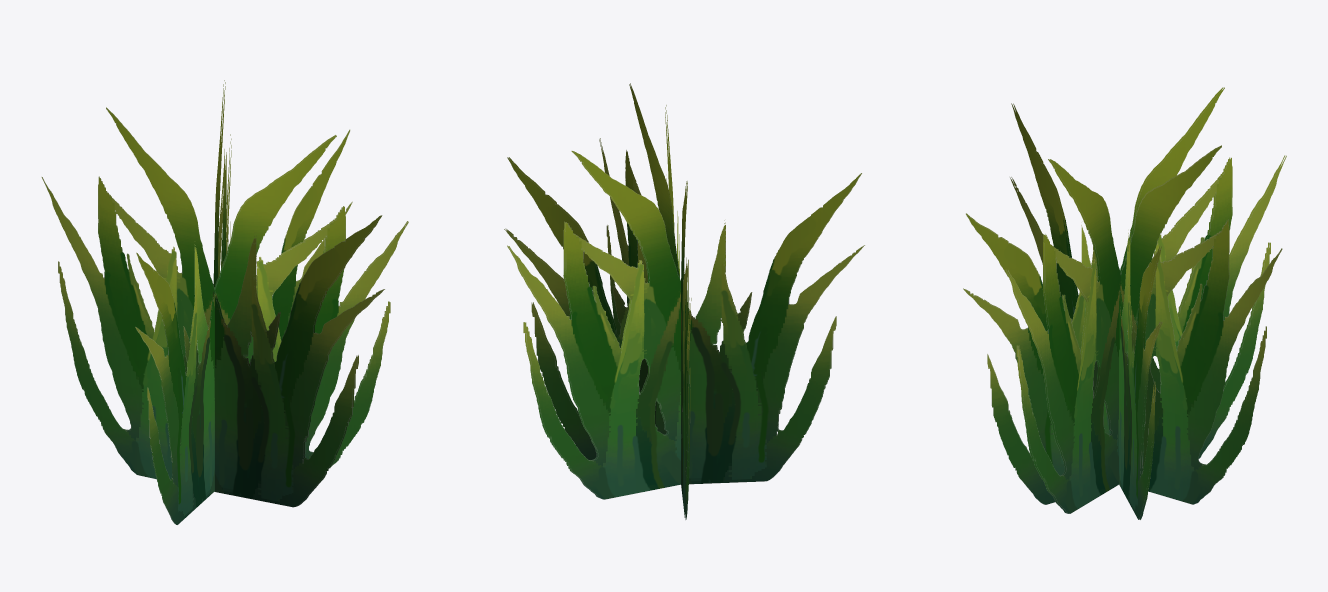
Rendered from Environment_Grass_Tuft_003.fbx.
3 renders of one model, left to right at view 1: azimuth 30°, elevation 25°; view 2: azimuth 150°, elevation 25°; view 3: azimuth 270°, elevation 25°, orthographic. The views are drawn at different scales.
Parts seen in each view (by area): view 1: Environment_Grass_Tuft_001; view 2: Environment_Grass_Tuft_001; view 3: Environment_Grass_Tuft_001.
Boxes of the visible parts, bbox=[...] form: Environment_Grass_Tuft_001: bbox=[41, 80, 408, 524]; Environment_Grass_Tuft_001: bbox=[504, 83, 864, 519]; Environment_Grass_Tuft_001: bbox=[963, 87, 1286, 519].
Bounding box in the file's own units: 72.98 × 75.99 × 67.57.
